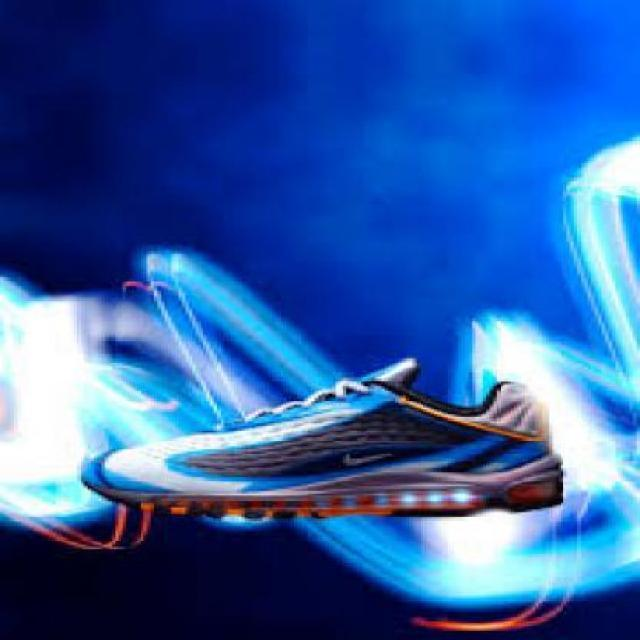Nike: (332, 446, 389, 463)
